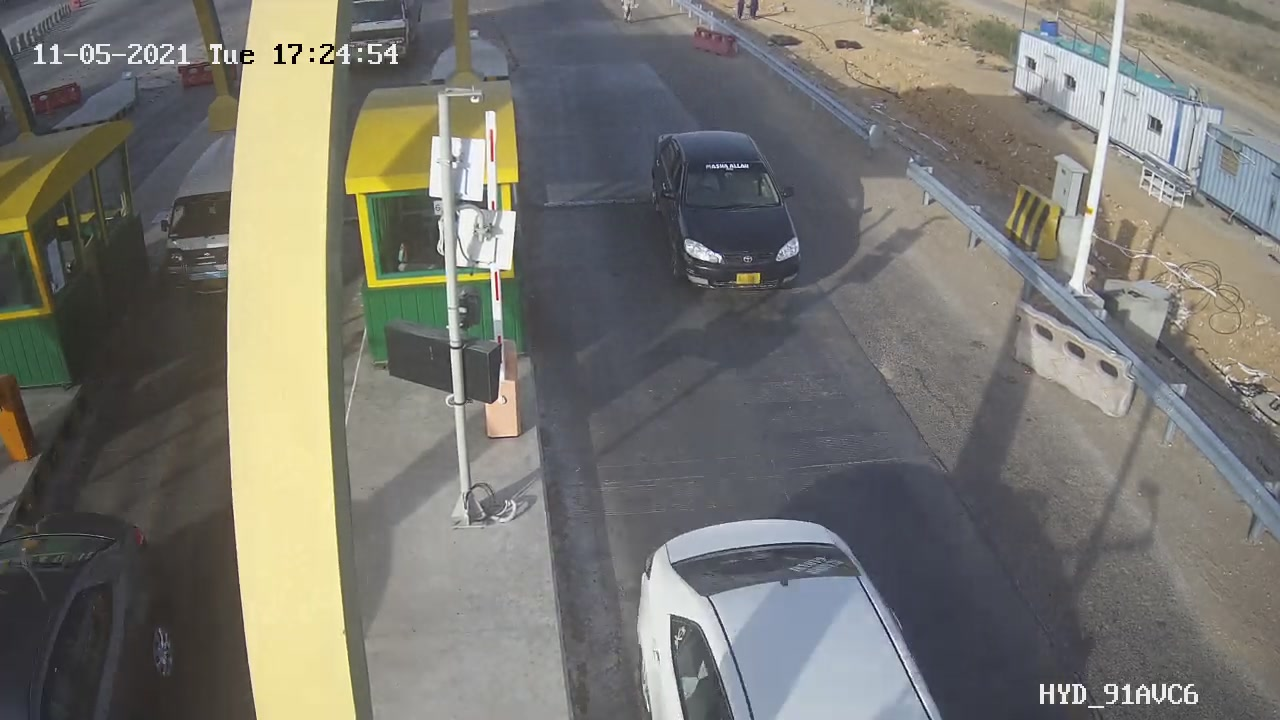F1: (629, 109, 833, 321)
